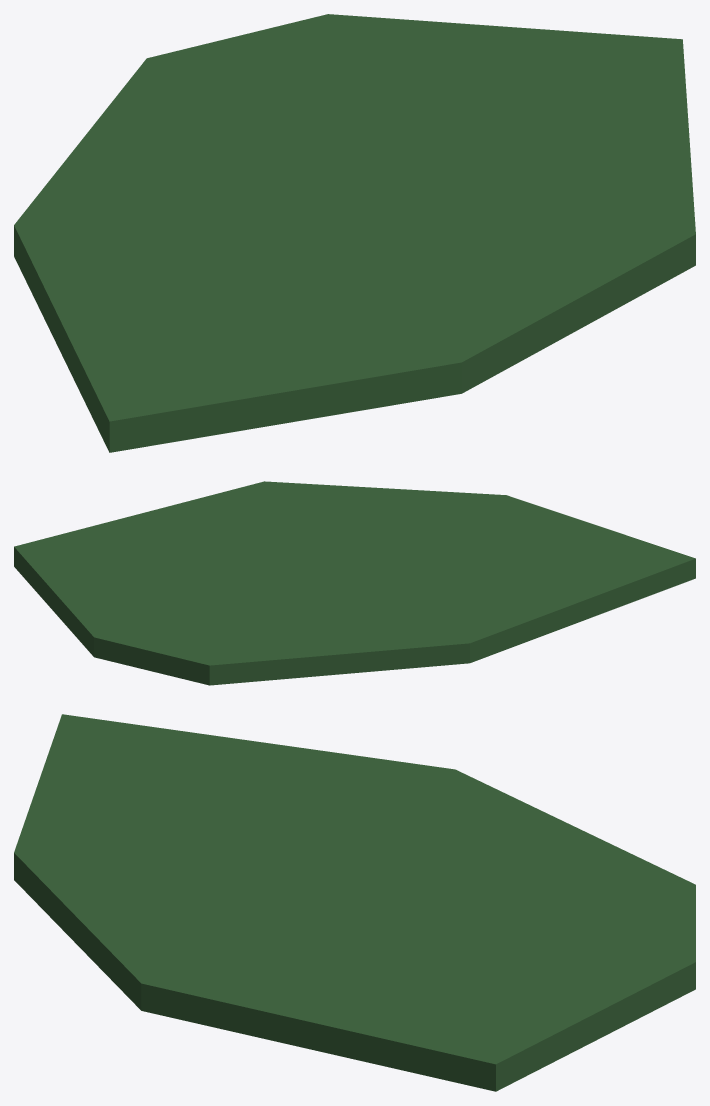
The model's file is x_proval_00_4_1_rmstrd.fbx.
3 views of the same model, one above another, from view 1: azimuth 30°, elevation 25°; view 2: azimuth 150°, elevation 25°; view 3: azimuth 270°, elevation 25° (orthographic). The views are drawn at different scales.
Visible parts, largest first — view 1: x_proval_00_4_1_rmstrd1; view 2: x_proval_00_4_1_rmstrd1; view 3: x_proval_00_4_1_rmstrd1.
Boxes of the visible parts, box(x1,y1,x2,y2) form: x_proval_00_4_1_rmstrd1: box(14, 14, 695, 452); x_proval_00_4_1_rmstrd1: box(14, 481, 695, 685); x_proval_00_4_1_rmstrd1: box(14, 714, 695, 1091).
Bounding box in the file's own units: 5.49 × 0.2 × 4.52.
